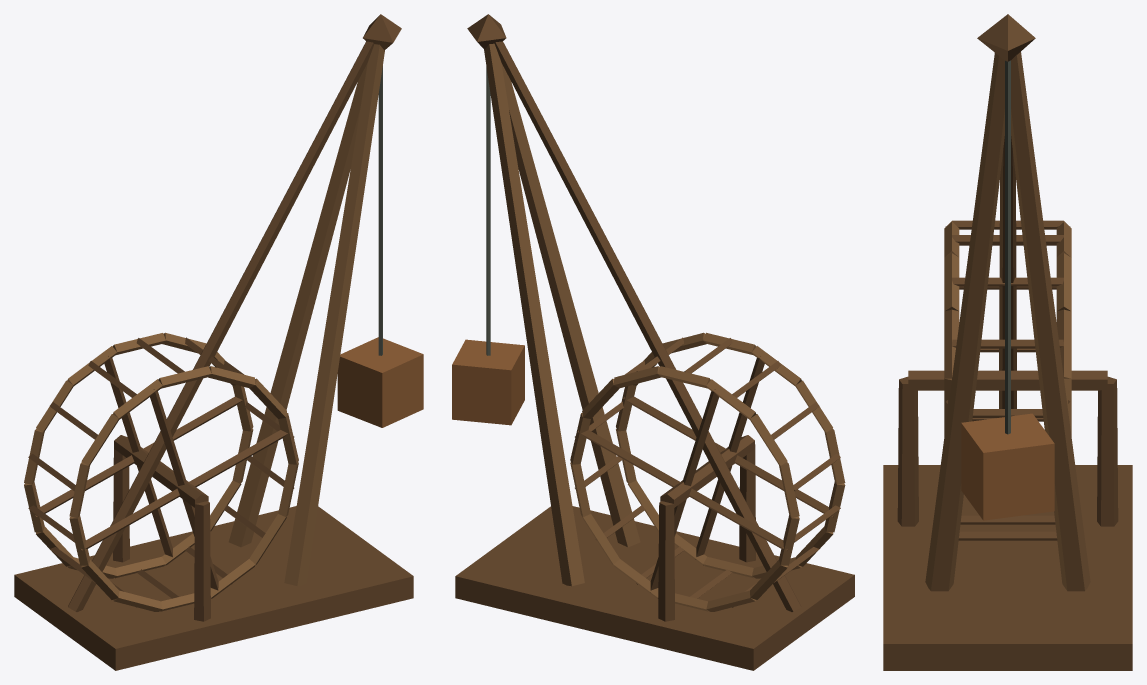
File: crane.glb
3 renders of one model, left to right at view 1: azimuth 30°, elevation 25°; view 2: azimuth 150°, elevation 25°; view 3: azimuth 270°, elevation 25°, orthographic. The views are drawn at different scales.
Parts seen in each view (by area): view 1: crane2; view 2: crane2; view 3: crane2.
Part boxes in pixels (x1=…): crane2: x1=14, y1=14, x2=423, y2=670; crane2: x1=452, y1=14, x2=854, y2=670; crane2: x1=883, y1=14, x2=1132, y2=670.
Bounding box in the file's own units: 4.18 × 5.91 × 2.
